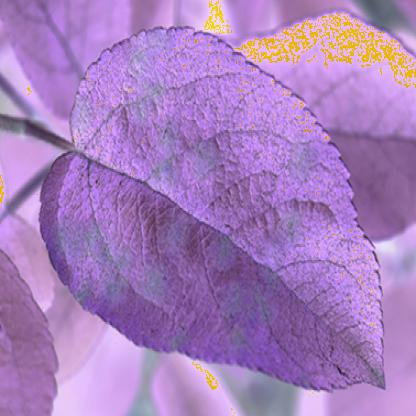apple scab leaf: (36, 20, 392, 399)
